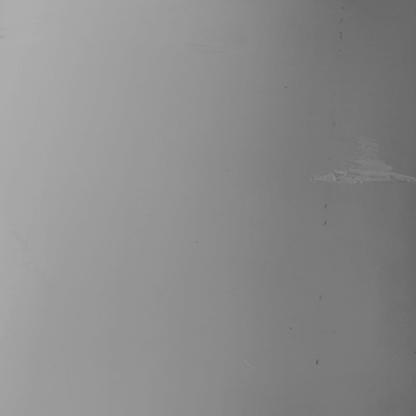sunshang: (311, 143, 416, 182)
